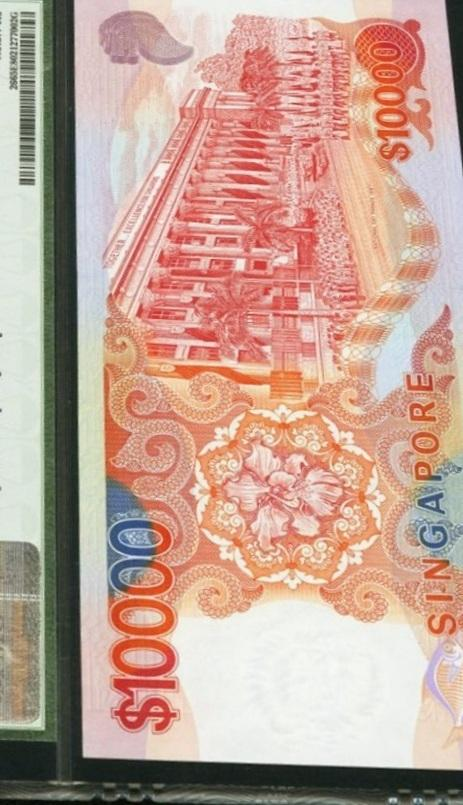10000SingaporeDollar: (80, 0, 463, 756)
